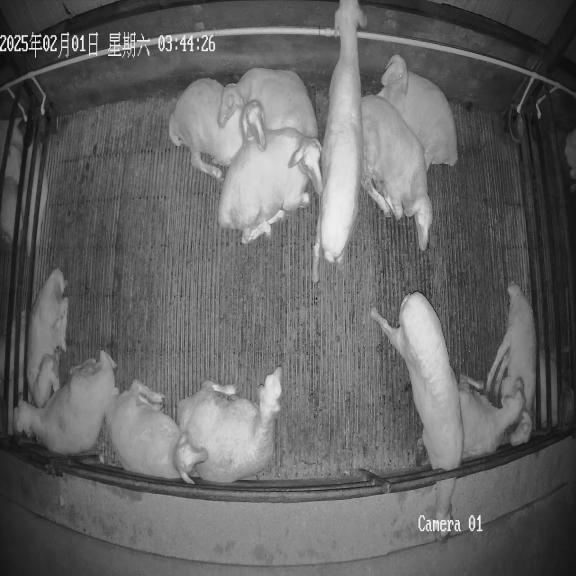eating: (371, 292, 464, 547)
lying: (178, 367, 283, 483), (218, 128, 323, 244), (361, 95, 432, 250), (14, 351, 118, 455), (106, 380, 207, 484), (168, 78, 266, 180), (378, 54, 457, 167), (485, 283, 536, 446), (219, 68, 317, 136), (458, 375, 525, 459), (27, 269, 68, 406)
stand: (312, 0, 366, 283)
